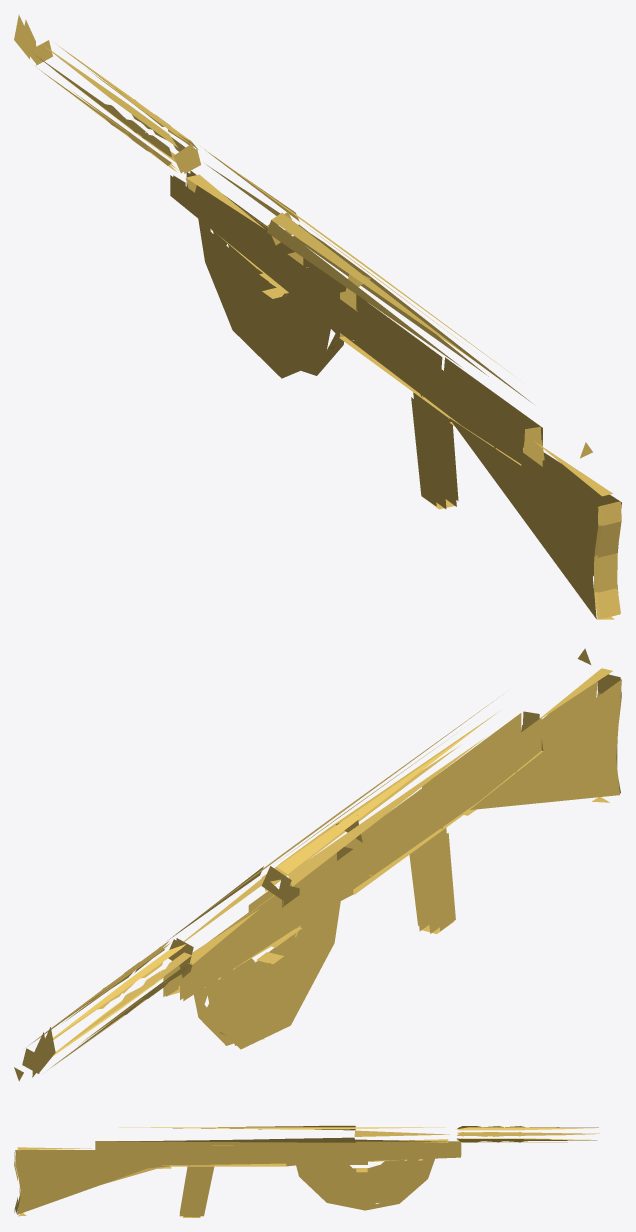
The model's file is charm_mst_lmg_5.glb.
3 views of the same model, one above another, from view 1: azimuth 30°, elevation 25°; view 2: azimuth 150°, elevation 25°; view 3: azimuth 270°, elevation 25° (orthographic). The views are drawn at different scales.
Parts seen in each view (by area): view 1: p0_paint; view 2: p0_paint; view 3: p0_paint.
Boxes of the visible parts, box(x1,y1,x2,y2) form: p0_paint: box(14, 14, 621, 619); p0_paint: box(14, 648, 621, 1081); p0_paint: box(14, 1125, 599, 1217).
Size of the model in its own units: 0.0416 by 0.1951 by 1.06.
